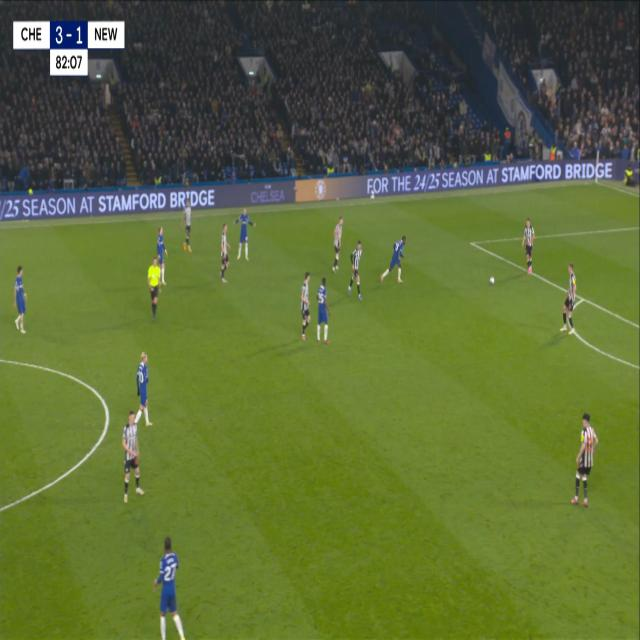Ball: (488, 274, 495, 286)
Chelsea: (151, 530, 187, 636), (132, 346, 155, 430), (379, 229, 409, 288), (232, 202, 256, 263), (11, 261, 30, 336), (314, 272, 330, 346)
New castle: (569, 408, 600, 512), (119, 406, 147, 506), (560, 258, 578, 341), (299, 268, 314, 344), (348, 239, 364, 301), (521, 214, 536, 280), (180, 196, 195, 256), (332, 212, 343, 274), (220, 220, 231, 280)
Refree: (144, 252, 164, 323)
